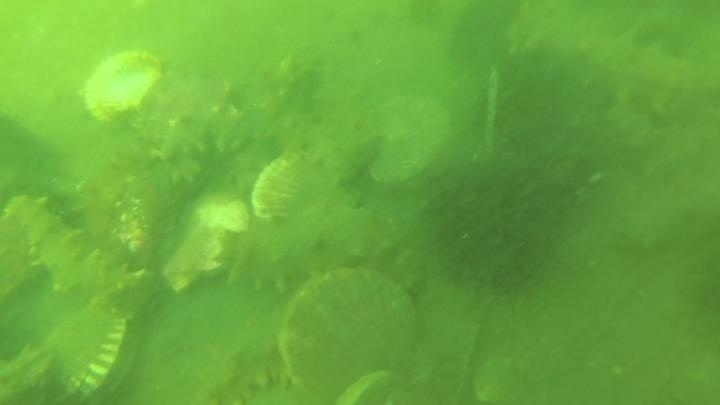echinus: (461, 50, 620, 201), (422, 160, 567, 296), (1, 108, 71, 219), (445, 3, 522, 74)
holothurian: (506, 11, 712, 121), (3, 190, 156, 317), (212, 205, 392, 295), (277, 63, 383, 188), (150, 103, 294, 188), (196, 334, 300, 405), (1, 339, 65, 404)
scallop: (275, 267, 422, 398), (13, 298, 134, 403), (359, 92, 458, 190), (80, 48, 167, 125), (248, 150, 334, 227), (160, 220, 227, 294), (471, 349, 543, 404), (188, 189, 253, 240), (334, 368, 403, 404)
